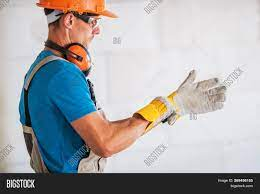Helmet: (35, 1, 122, 16)
gloves: (164, 77, 235, 129)
